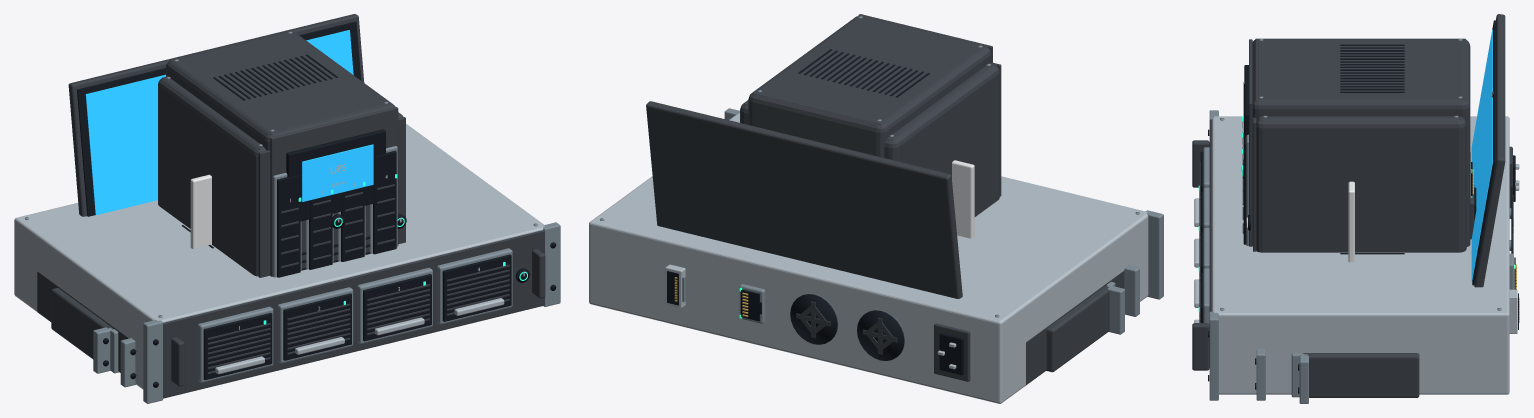
The model's file is lab-blender-hardware.glb.
3 views of the same model, side by side, from view 1: azimuth 30°, elevation 25°; view 2: azimuth 150°, elevation 25°; view 3: azimuth 270°, elevation 25° (orthographic). The views are drawn at different scales.
Parts seen in each view (by area): view 1: device_server__aluminum, device_ups__graphite, device_server__graphite, device_nas__graphite, device_server__black, Active display, device_nas__black, device_server__steel, device_ups__black, UPS LCD, Display aluminum shell, Display assembly__black (+6 smaller); view 2: device_server__aluminum, Display aluminum shell, device_ups__graphite, device_nas__graphite, device_pdu__graphite, device_server__black, device_server__steel, device_ups__black, device_wall__ivory, device_switch__graphite, device_server__graphite, IEC inlet flange.001 (+4 smaller); view 3: device_server__aluminum, device_nas__graphite, device_ups__graphite, device_pdu__graphite, Display aluminum shell, Active display, device_ups__black, device_server__graphite, device_server__steel, device_server__black, Display assembly__black, device_wall__ivory (+6 smaller).
Boxes of the visible parts, x1=… form: device_server__aluminum: x1=14, y1=124, x2=545, y2=398; device_ups__graphite: x1=166, y1=30, x2=398, y2=276; device_server__graphite: x1=163, y1=230, x2=545, y2=398; device_nas__graphite: x1=158, y1=76, x2=405, y2=277; device_server__black: x1=153, y1=225, x2=556, y2=387; Active display: x1=85, y1=30, x2=353, y2=215; device_nas__black: x1=277, y1=150, x2=396, y2=277; device_server__steel: x1=25, y1=217, x2=560, y2=403; device_ups__black: x1=213, y1=54, x2=385, y2=270; UPS LCD: x1=302, y1=144, x2=373, y2=201; Display aluminum shell: x1=68, y1=14, x2=364, y2=216; Display assembly__black: x1=77, y1=21, x2=361, y2=216; device_server__aluminum: x1=589, y1=113, x2=1148, y2=403; Display aluminum shell: x1=646, y1=101, x2=962, y2=298; device_ups__graphite: x1=748, y1=14, x2=992, y2=157; device_nas__graphite: x1=740, y1=62, x2=1001, y2=216; device_pdu__graphite: x1=1046, y1=286, x2=1109, y2=372; device_server__black: x1=790, y1=294, x2=904, y2=360; device_server__steel: x1=600, y1=108, x2=1163, y2=355; device_ups__black: x1=798, y1=49, x2=929, y2=97; device_wall__ivory: x1=952, y1=160, x2=974, y2=238; device_switch__graphite: x1=1026, y1=271, x2=1124, y2=385; device_server__graphite: x1=796, y1=301, x2=897, y2=354; IEC inlet flange.001: x1=934, y1=323, x2=970, y2=381; device_server__aluminum: x1=1194, y1=116, x2=1509, y2=394; device_nas__graphite: x1=1242, y1=116, x2=1470, y2=252; device_ups__graphite: x1=1249, y1=38, x2=1470, y2=246; device_pdu__graphite: x1=1303, y1=353, x2=1419, y2=397; Display aluminum shell: x1=1474, y1=14, x2=1505, y2=287; Active display: x1=1471, y1=30, x2=1492, y2=281; device_ups__black: x1=1244, y1=44, x2=1404, y2=138; device_server__graphite: x1=1192, y1=120, x2=1513, y2=370; device_server__steel: x1=1203, y1=110, x2=1511, y2=400; device_server__black: x1=1200, y1=129, x2=1512, y2=381; Display assembly__black: x1=1472, y1=20, x2=1495, y2=285; device_wall__ivory: x1=1348, y1=181, x2=1354, y2=262.
Bounding box in the file's own units: 6.53 × 3.26 × 4.18.
